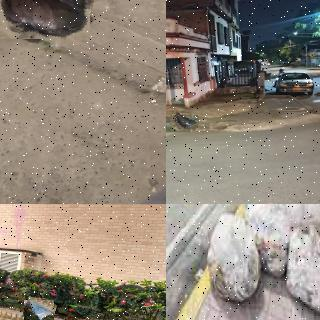Garbage: (243, 204, 320, 275), (205, 209, 263, 302), (0, 0, 94, 45), (286, 223, 320, 317), (23, 298, 55, 320), (171, 113, 199, 131)
